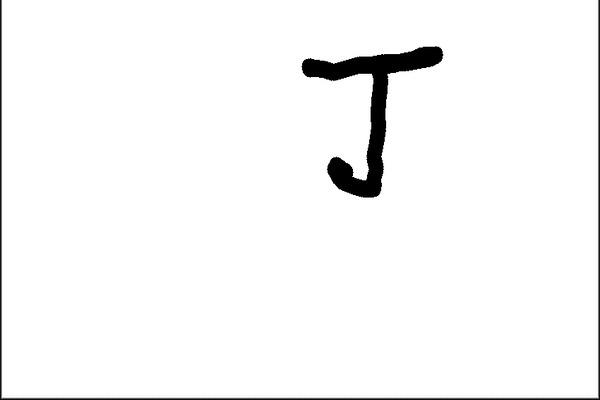J: (297, 38, 448, 205)
